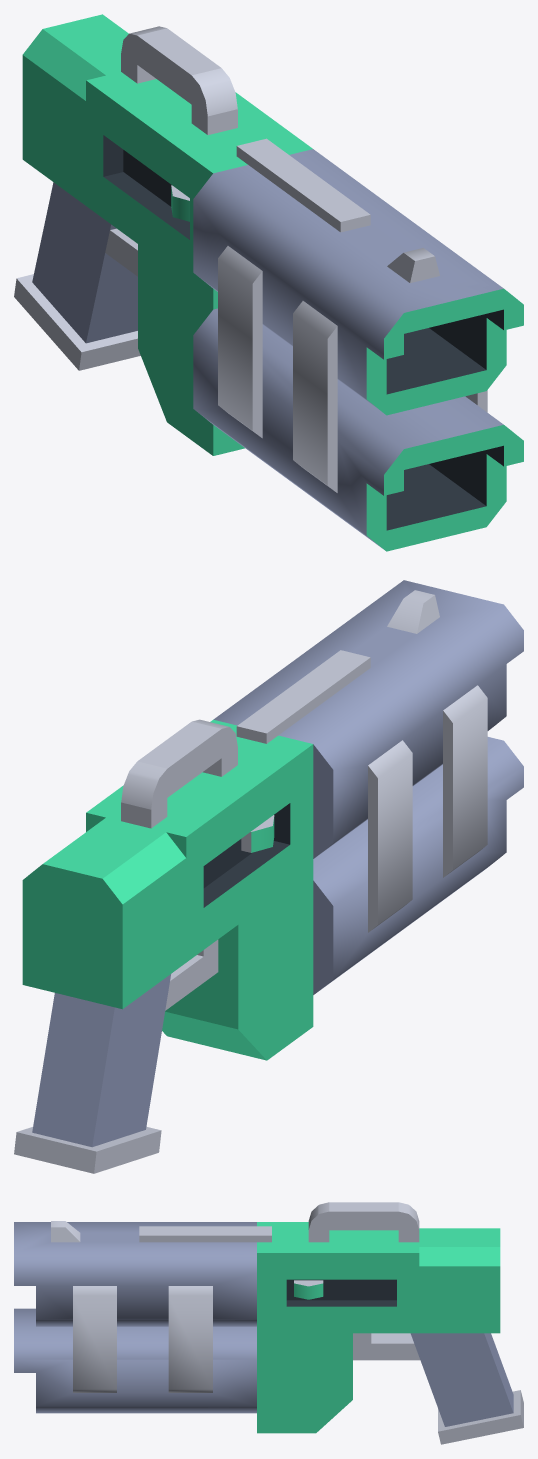
The model's file is blasterQ.glb.
The picture shows the model from 3 angles, top to bottom: view 1: azimuth 30°, elevation 25°; view 2: azimuth 150°, elevation 25°; view 3: azimuth 270°, elevation 25°; orthographic projection. The views are drawn at different scales.
Visible parts, largest first — view 1: blasterQ; view 2: blasterQ; view 3: blasterQ.
Part boxes in pixels (<box>): blasterQ: <box>14,14,523,551</box>; blasterQ: <box>14,580,523,1173</box>; blasterQ: <box>14,1202,523,1444</box>.
Bounding box in the file's own units: 0.16 × 0.3376 × 0.6922.
